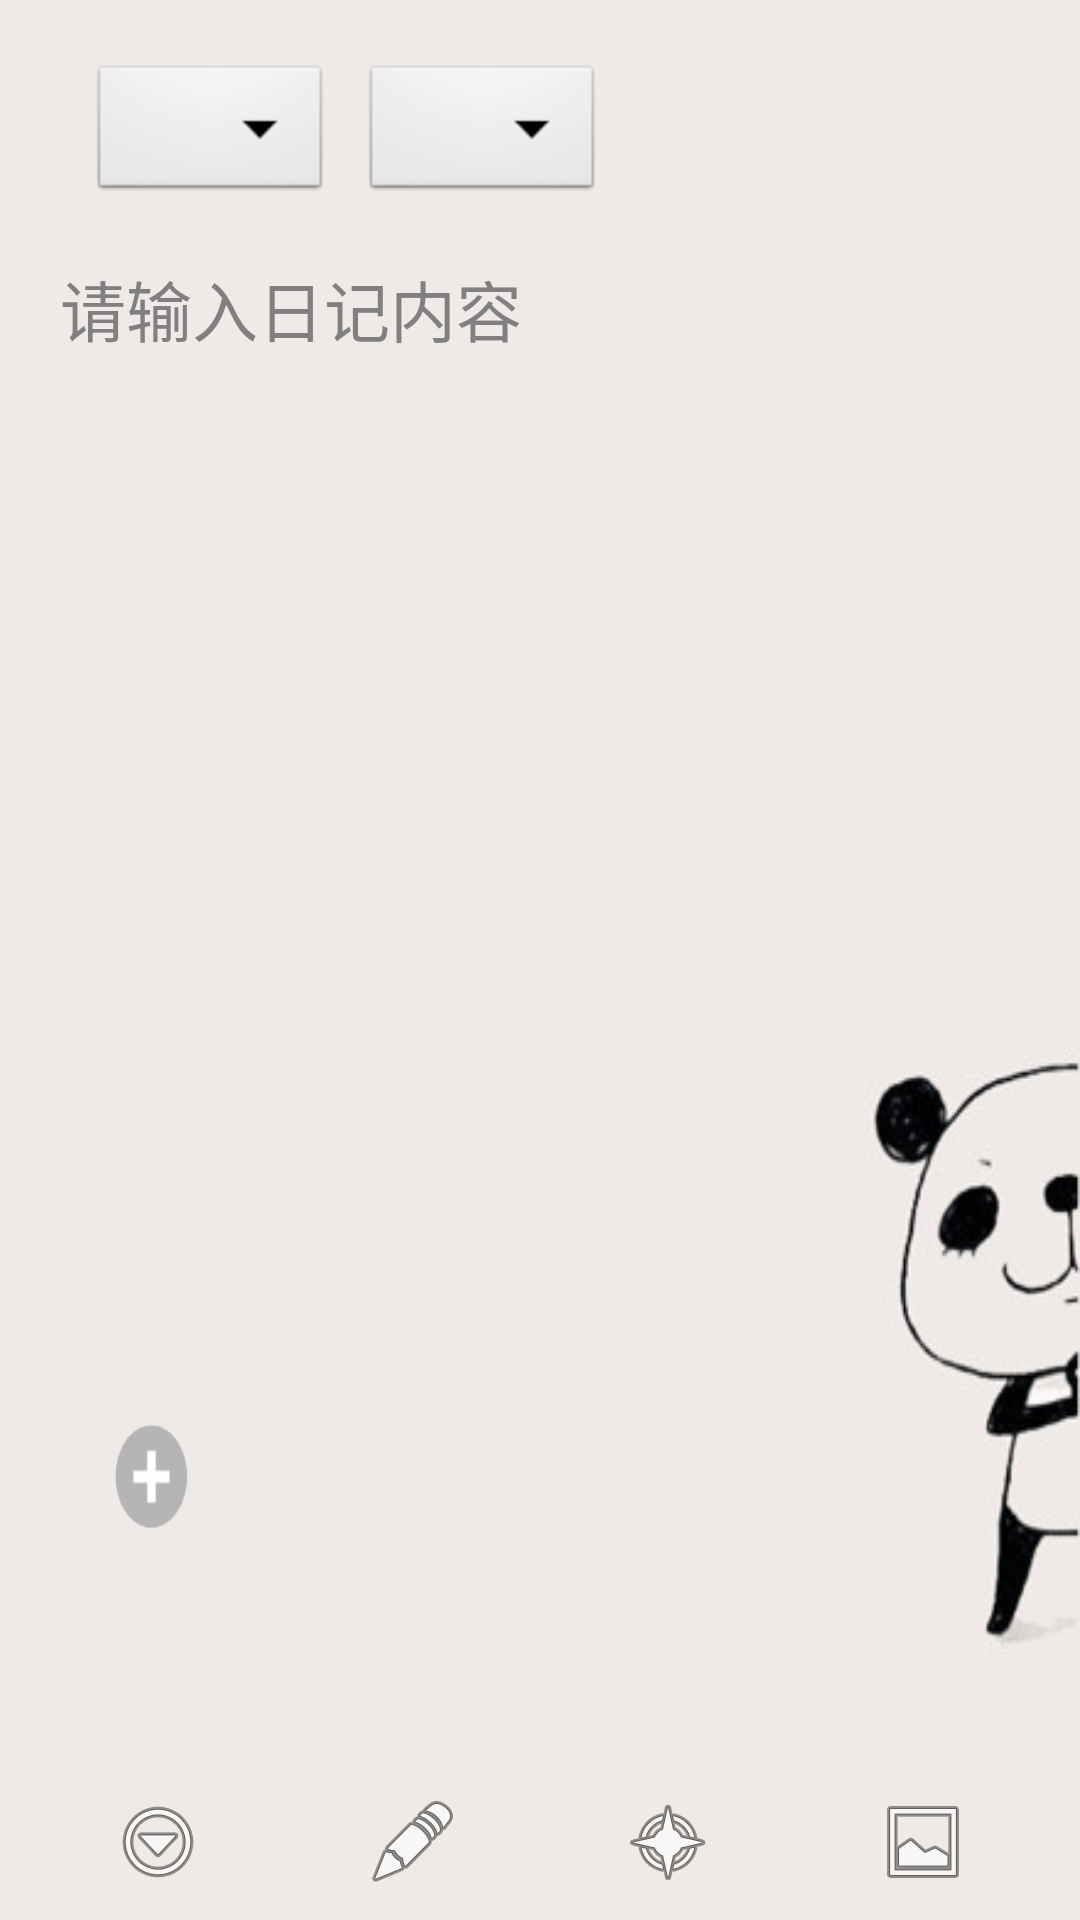

Icons on this 1080×1920 Android screen, each with the point to tap as [x,y]:
add: [151,1476]
compass: [668,1842]
edit: [412,1841]
gallery: [923,1842]
more: [158,1842]
